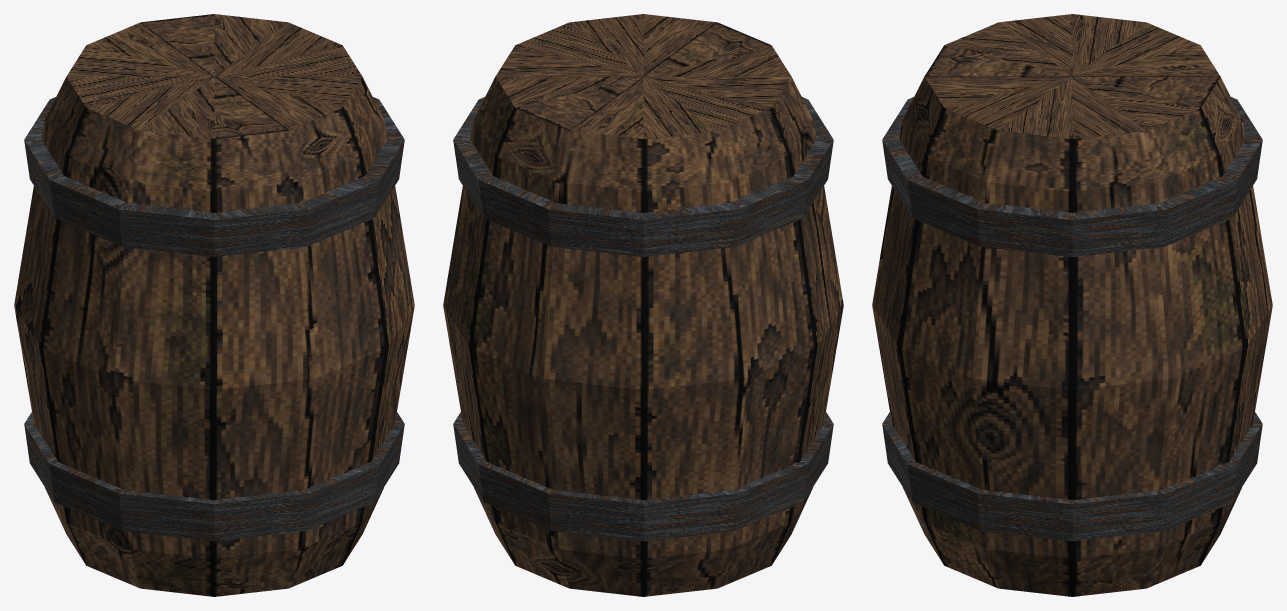
The model's file is C02_Barril.obj.
3 views of the same model, side by side, from view 1: azimuth 30°, elevation 25°; view 2: azimuth 150°, elevation 25°; view 3: azimuth 270°, elevation 25° (orthographic).
Parts seen in each view (by area): view 1: C02_Barril; view 2: C02_Barril; view 3: C02_Barril.
Boxes of the visible parts, box(x1,y1,x2,y2) form: C02_Barril: box(14, 14, 414, 596); C02_Barril: box(443, 14, 843, 596); C02_Barril: box(872, 14, 1272, 596).
Bounding box in the file's own units: 0.92 × 1.16 × 0.92.
2 materials, 2 textured.
